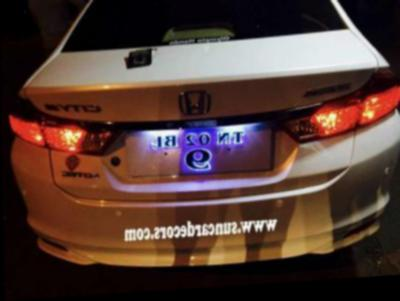License_Plate: (149, 123, 251, 174)
